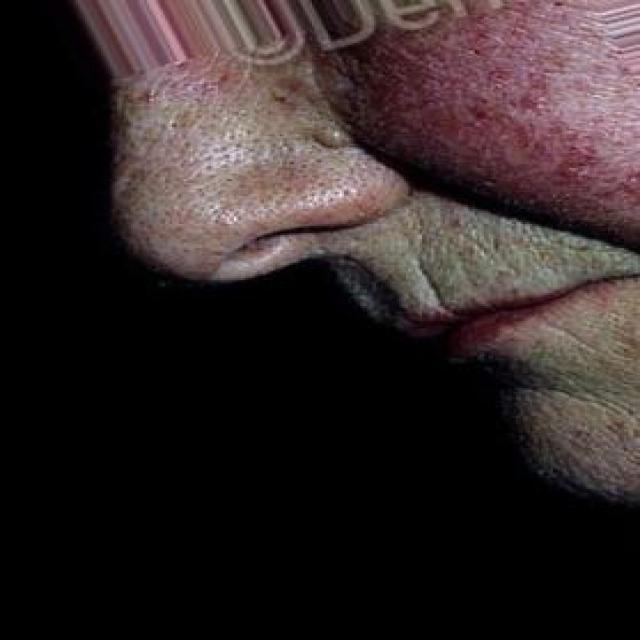Rosacea: (351, 9, 640, 216)
